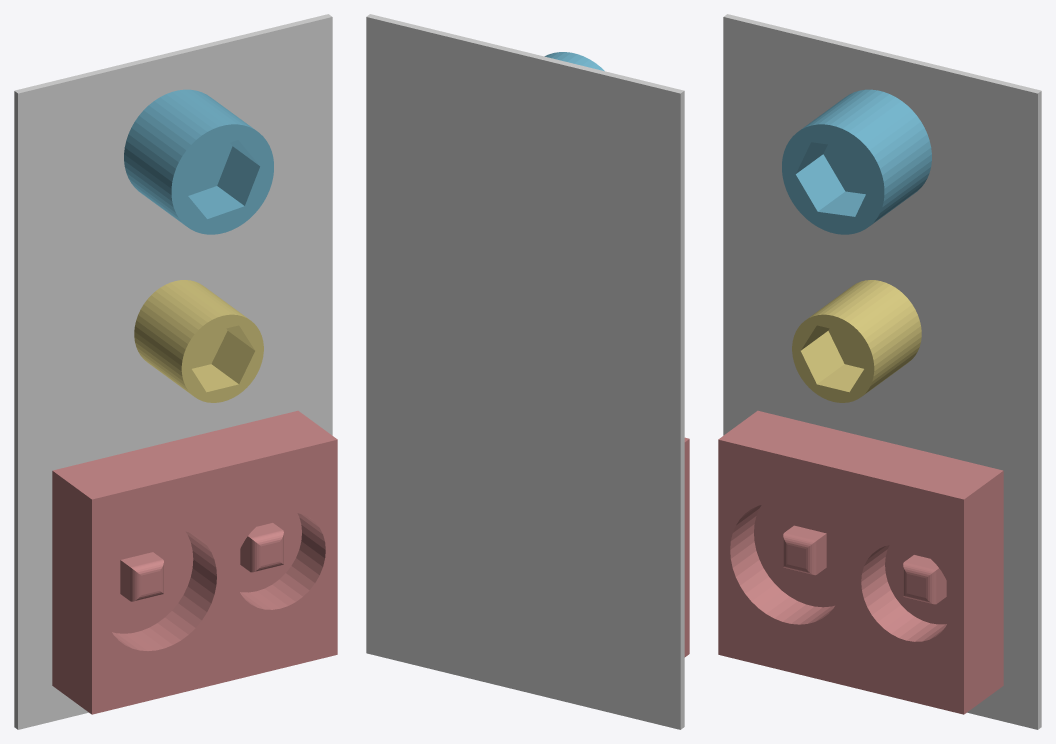
Rendered from pickup_layout.glb.
The picture shows the model from 3 angles, left to right: view 1: azimuth 30°, elevation 25°; view 2: azimuth 150°, elevation 25°; view 3: azimuth 330°, elevation 25°; orthographic projection.
Parts seen in each view (by area): view 1: world, 0.obj, 2.obj, 1.obj; view 2: world, 0.obj; view 3: world, 0.obj, 2.obj, 1.obj.
Boxes of the visible parts, x1,y1,x2,y2 form: world: (14, 14, 332, 729); 0.obj: (52, 410, 337, 714); 2.obj: (124, 89, 273, 234); 1.obj: (134, 280, 263, 402); world: (366, 14, 684, 729); 0.obj: (684, 437, 689, 657); world: (723, 14, 1041, 729); 0.obj: (718, 410, 1003, 714); 2.obj: (782, 89, 931, 234); 1.obj: (792, 280, 921, 402).
Bounding box in the file's own units: 9.18 × 17.75 × 2.6.
